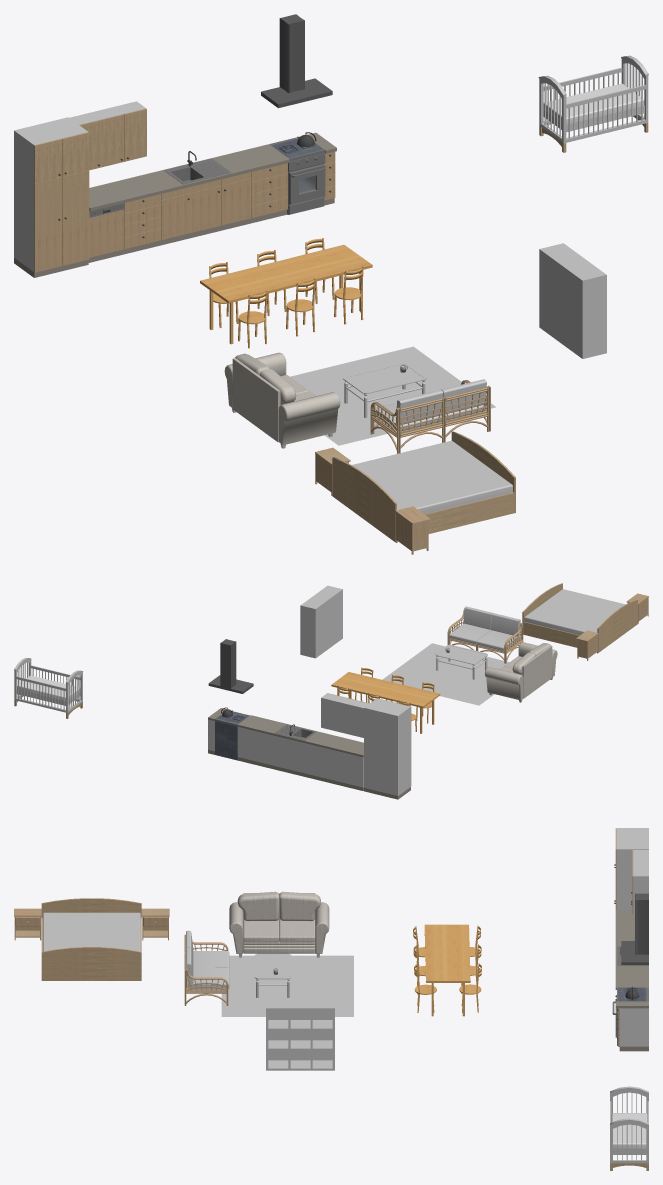
The model's file is Furniture layer.obj.
3 views of the same model, one above another, from view 1: azimuth 30°, elevation 25°; view 2: azimuth 150°, elevation 25°; view 3: azimuth 270°, elevation 25° (orthographic). The views are drawn at different scales.
Visible parts, largest first — view 1: INTERIOR_-_STAIR WOOD_-_PINE_GRAINED_HORIZONTAL, FINISH_-_CEILING WOOD_-_PINE_GRAINED_HORIZONTAL FLAT_PART, DIMENSIONING_-_GENERAL WOOD_-_OAK_LIGHT FLAT_PART, FINISH_-_FLOOR PAINT_-_ALIZARIN_CARMINE, FINISH_-_CEILING TEXTILE_-_02 FLAT_PART, INTERIOR_-_STAIR PLASTIC_-_LAMINATE, DIMENSIONING_-_STRUCTURE GDLM4_PICTMAT, INTERIOR_-_PARTITION STUCCO_-_YELLOW_ROUGH FLAT_PART, INTERIOR_-_STAIR PAINT_-_GLOSSY_WHITE, DIMENSIONING_-_SITE_ TEXTILE_-_01 SMOOTH_PART, DIMENSIONING_-_SITE_ TEXTILE_-_01 FLAT_PART, INTERIOR_-_STAIR METAL_-_CHROME_01 FLAT_PART (+9 smaller); view 2: INTERIOR_-_STAIR PAINT_-_GLOSSY_WHITE, DIMENSIONING_-_STRUCTURE GDLM4_PICTMAT, FINISH_-_CEILING WOOD_-_PINE_GRAINED_HORIZONTAL FLAT_PART, FINISH_-_FLOOR PAINT_-_ALIZARIN_CARMINE, FINISH_-_CEILING TEXTILE_-_02 FLAT_PART, INTERIOR_-_STAIR PLASTIC_-_LAMINATE, DIMENSIONING_-_GENERAL WOOD_-_OAK_LIGHT FLAT_PART, INTERIOR_-_PARTITION STUCCO_-_YELLOW_ROUGH FLAT_PART, DRAWING___FIGURE PAINT_-_GLOSSY_WHITE SMOOTH_PART, DIMENSIONING_-_SITE_ TEXTILE_-_01 SMOOTH_PART, DIMENSIONING_-_SITE_ TEXTILE_-_01 FLAT_PART, INTERIOR_-_STAIR METAL_-_IRON FLAT_PART (+7 smaller); view 3: FINISH_-_CEILING WOOD_-_PINE_GRAINED_HORIZONTAL FLAT_PART, DIMENSIONING_-_STRUCTURE GDLM4_PICTMAT, FINISH_-_FLOOR PAINT_-_ALIZARIN_CARMINE, DIMENSIONING_-_GENERAL WOOD_-_OAK_LIGHT FLAT_PART, INTERIOR_-_STAIR PAINT_-_GLOSSY_WHITE, FINISH_-_CEILING TEXTILE_-_02 FLAT_PART, DIMENSIONING_-_SITE_ TEXTILE_-_01 SMOOTH_PART, DIMENSIONING_-_SITE_ TEXTILE_-_01 FLAT_PART, INTERIOR_-_STAIR PLASTIC_-_LAMINATE, INTERIOR_-_PARTITION STUCCO_-_YELLOW_ROUGH FLAT_PART, DRAWING___FIGURE PAINT_-_GLOSSY_WHITE SMOOTH_PART, INTERIOR_-_PARTITION PAINT_-_TITANIUM_WHITE FLAT_PART (+4 smaller).
Boxes of the visible parts, bbox=[...] form: INTERIOR_-_STAIR WOOD_-_PINE_GRAINED_HORIZONTAL: bbox=[34, 108, 335, 272]; FINISH_-_CEILING WOOD_-_PINE_GRAINED_HORIZONTAL FLAT_PART: bbox=[315, 432, 515, 554]; DIMENSIONING_-_GENERAL WOOD_-_OAK_LIGHT FLAT_PART: bbox=[200, 238, 372, 348]; FINISH_-_FLOOR PAINT_-_ALIZARIN_CARMINE: bbox=[539, 243, 606, 358]; FINISH_-_CEILING TEXTILE_-_02 FLAT_PART: bbox=[352, 441, 511, 510]; INTERIOR_-_STAIR PLASTIC_-_LAMINATE: bbox=[14, 132, 336, 277]; DIMENSIONING_-_STRUCTURE GDLM4_PICTMAT: bbox=[290, 346, 495, 445]; INTERIOR_-_PARTITION STUCCO_-_YELLOW_ROUGH FLAT_PART: bbox=[538, 56, 648, 143]; INTERIOR_-_STAIR PAINT_-_GLOSSY_WHITE: bbox=[14, 101, 145, 271]; DIMENSIONING_-_SITE_ TEXTILE_-_01 SMOOTH_PART: bbox=[224, 352, 340, 445]; DIMENSIONING_-_SITE_ TEXTILE_-_01 FLAT_PART: bbox=[225, 358, 315, 442]; INTERIOR_-_STAIR METAL_-_CHROME_01 FLAT_PART: bbox=[89, 136, 325, 217]; INTERIOR_-_STAIR PAINT_-_GLOSSY_WHITE: bbox=[208, 693, 410, 795]; DIMENSIONING_-_STRUCTURE GDLM4_PICTMAT: bbox=[382, 643, 509, 705]; FINISH_-_CEILING WOOD_-_PINE_GRAINED_HORIZONTAL FLAT_PART: bbox=[522, 583, 648, 660]; FINISH_-_FLOOR PAINT_-_ALIZARIN_CARMINE: bbox=[300, 585, 342, 658]; FINISH_-_CEILING TEXTILE_-_02 FLAT_PART: bbox=[525, 589, 625, 632]; INTERIOR_-_STAIR PLASTIC_-_LAMINATE: bbox=[208, 708, 410, 799]; DIMENSIONING_-_GENERAL WOOD_-_OAK_LIGHT FLAT_PART: bbox=[331, 667, 440, 733]; INTERIOR_-_PARTITION STUCCO_-_YELLOW_ROUGH FLAT_PART: bbox=[14, 658, 83, 712]; DRAWING___FIGURE PAINT_-_GLOSSY_WHITE SMOOTH_PART: bbox=[449, 606, 519, 650]; DIMENSIONING_-_SITE_ TEXTILE_-_01 SMOOTH_PART: bbox=[485, 642, 557, 700]; DIMENSIONING_-_SITE_ TEXTILE_-_01 FLAT_PART: bbox=[500, 645, 557, 698]; INTERIOR_-_STAIR METAL_-_IRON FLAT_PART: bbox=[215, 711, 248, 760]; FINISH_-_CEILING WOOD_-_PINE_GRAINED_HORIZONTAL FLAT_PART: bbox=[14, 899, 169, 980]; DIMENSIONING_-_STRUCTURE GDLM4_PICTMAT: bbox=[221, 955, 353, 1016]; FINISH_-_FLOOR PAINT_-_ALIZARIN_CARMINE: bbox=[266, 999, 334, 1070]; DIMENSIONING_-_GENERAL WOOD_-_OAK_LIGHT FLAT_PART: bbox=[414, 924, 481, 1016]; INTERIOR_-_STAIR PAINT_-_GLOSSY_WHITE: bbox=[616, 828, 648, 1046]; FINISH_-_CEILING TEXTILE_-_02 FLAT_PART: bbox=[44, 913, 139, 951]; DIMENSIONING_-_SITE_ TEXTILE_-_01 SMOOTH_PART: bbox=[229, 891, 329, 953]; DIMENSIONING_-_SITE_ TEXTILE_-_01 FLAT_PART: bbox=[231, 893, 327, 953]; INTERIOR_-_STAIR PLASTIC_-_LAMINATE: bbox=[615, 910, 648, 1051]; INTERIOR_-_PARTITION STUCCO_-_YELLOW_ROUGH FLAT_PART: bbox=[610, 1088, 648, 1163]; DRAWING___FIGURE PAINT_-_GLOSSY_WHITE SMOOTH_PART: bbox=[186, 930, 229, 985]; INTERIOR_-_PARTITION PAINT_-_TITANIUM_WHITE FLAT_PART: bbox=[613, 1113, 646, 1143].
Size of the model in its own units: 10102 by 2850 by 11425.
